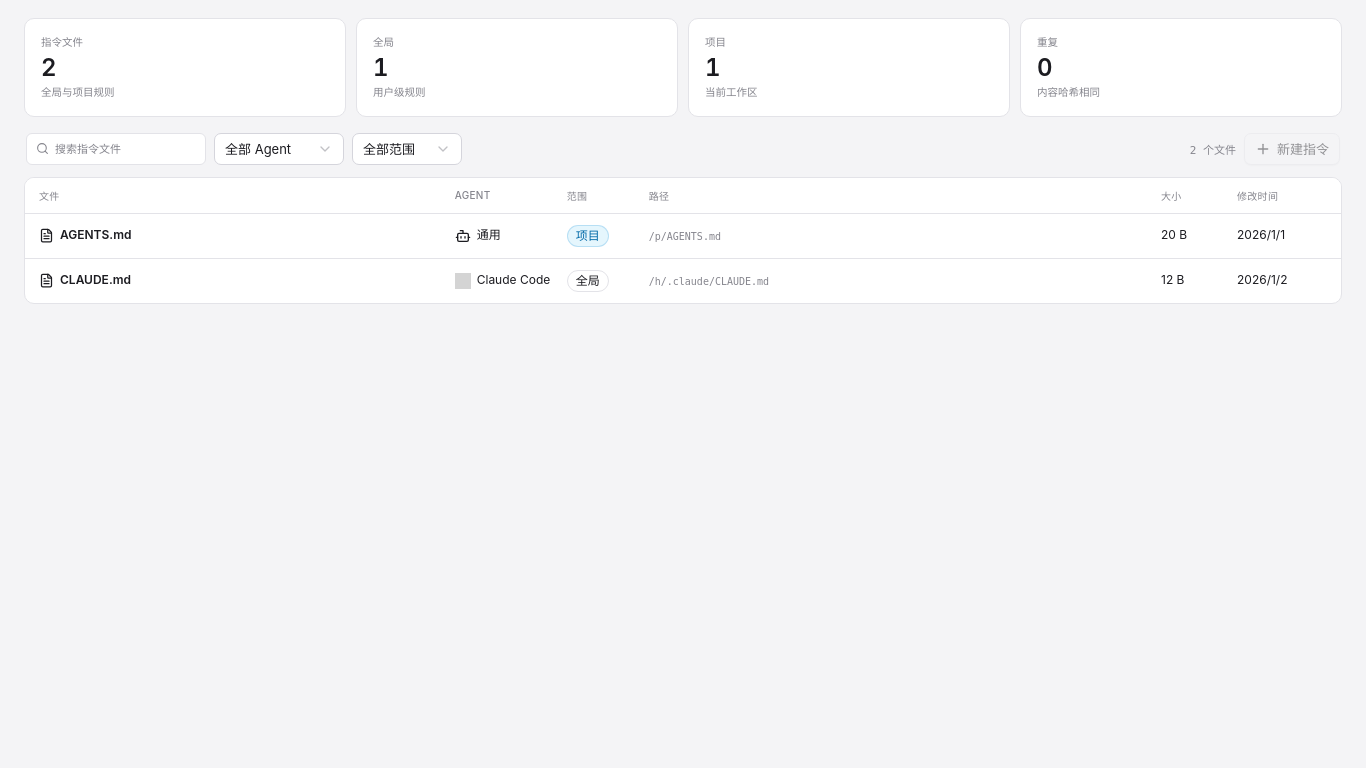
Test: filters instruction files by search and opens preview
Expected: the text "AGENTS.md" is shown, [60, 227, 131, 244]
Type "claude" into the field labelled "搜索指令文件" at (126, 149), box [55, 134, 196, 164]
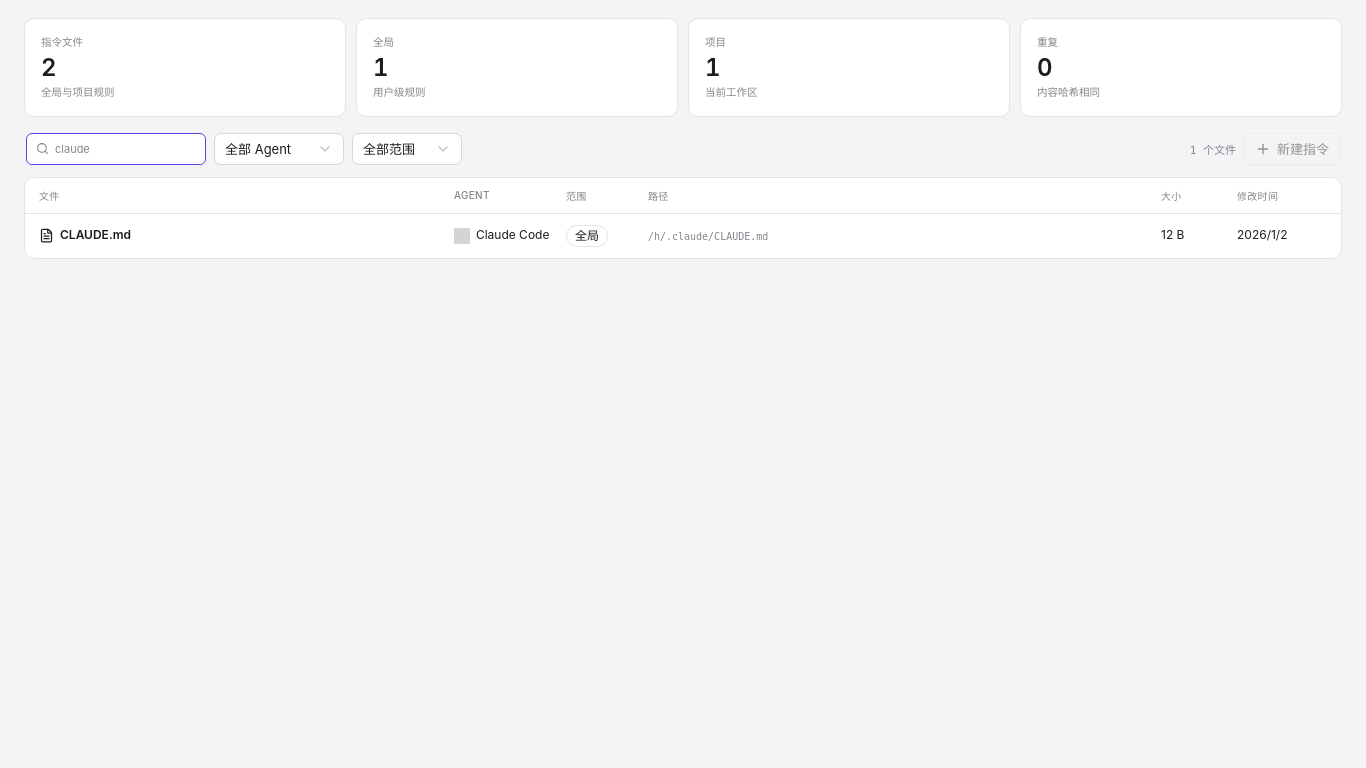
Now the text "AGENTS.md" is gone
Click the text "CLAUDE.md" at (96, 236), box [60, 227, 131, 244]
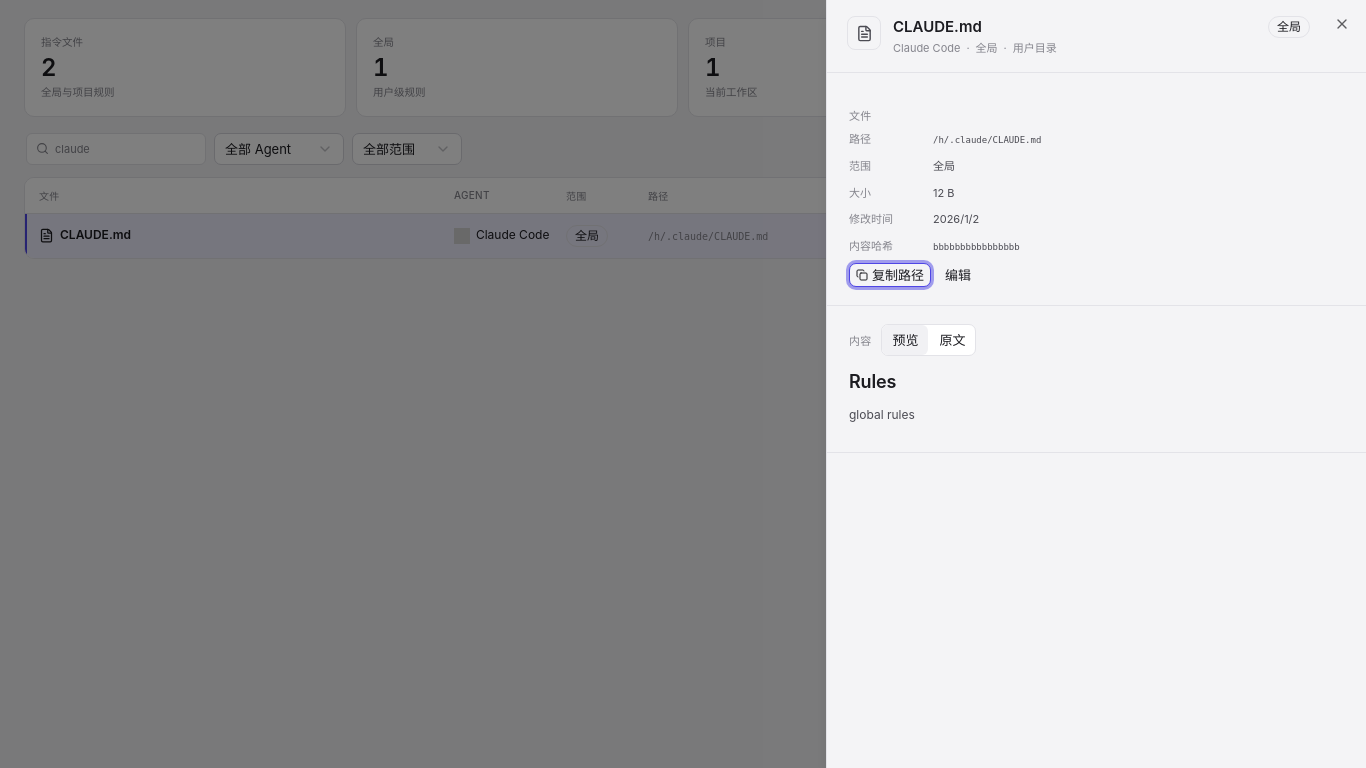
Now the heading "内容" is shown, box [849, 332, 872, 348]
Now the text "global rules" is shown, box [849, 407, 915, 422]
Click the button "原文" at (952, 340), box [930, 325, 976, 355]
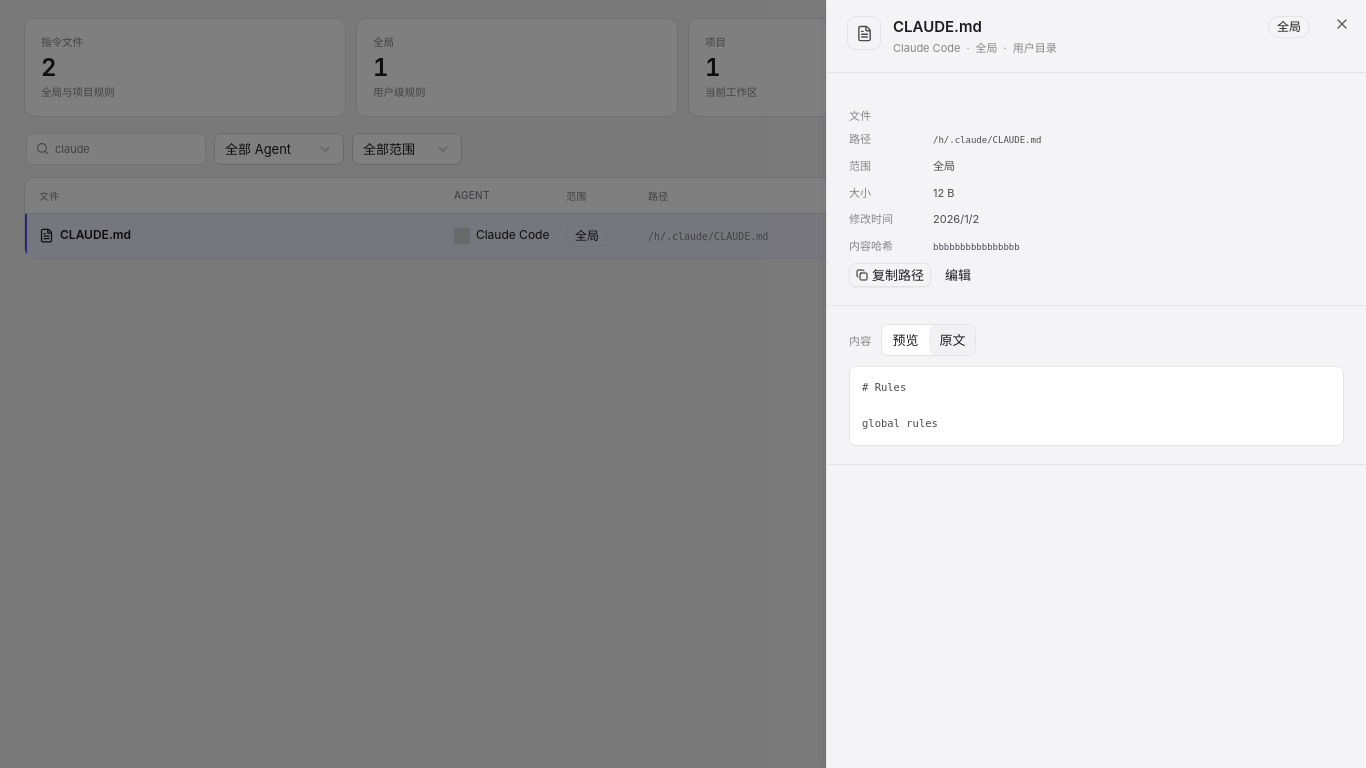
Now the text "# Rules global rules" is shown, box [849, 366, 1344, 446]
